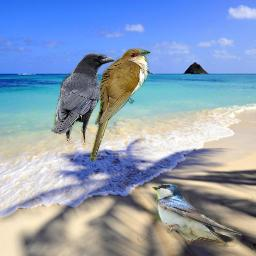Crow: (51, 53, 116, 145)
Cuckoo: (89, 48, 151, 163)
Swallow: (152, 183, 242, 250)
